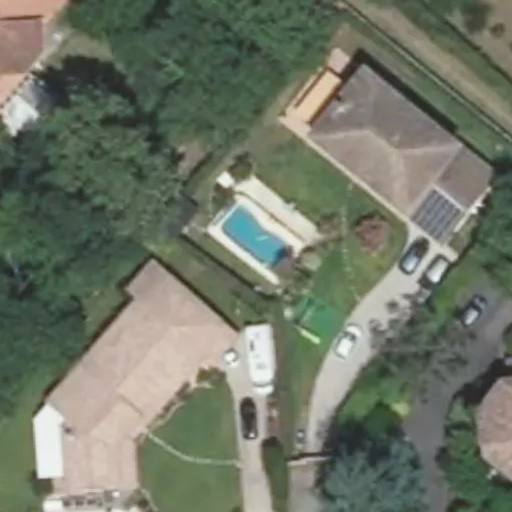pool: (210, 231, 301, 252)
